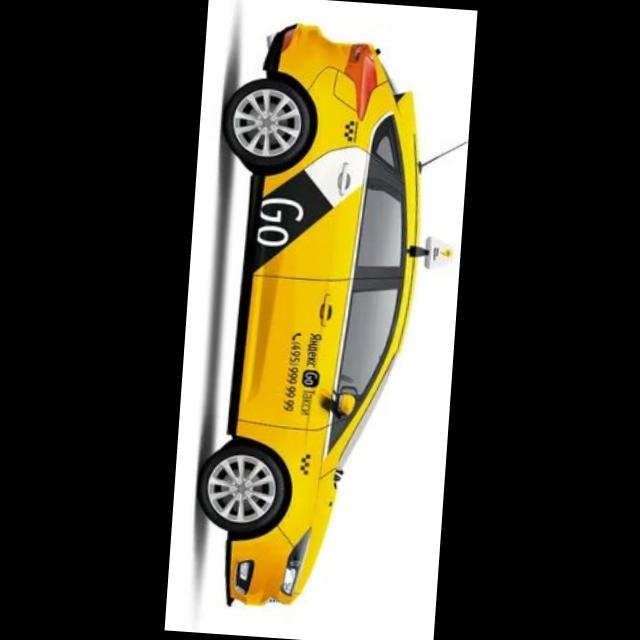taxi: (189, 18, 476, 622)
